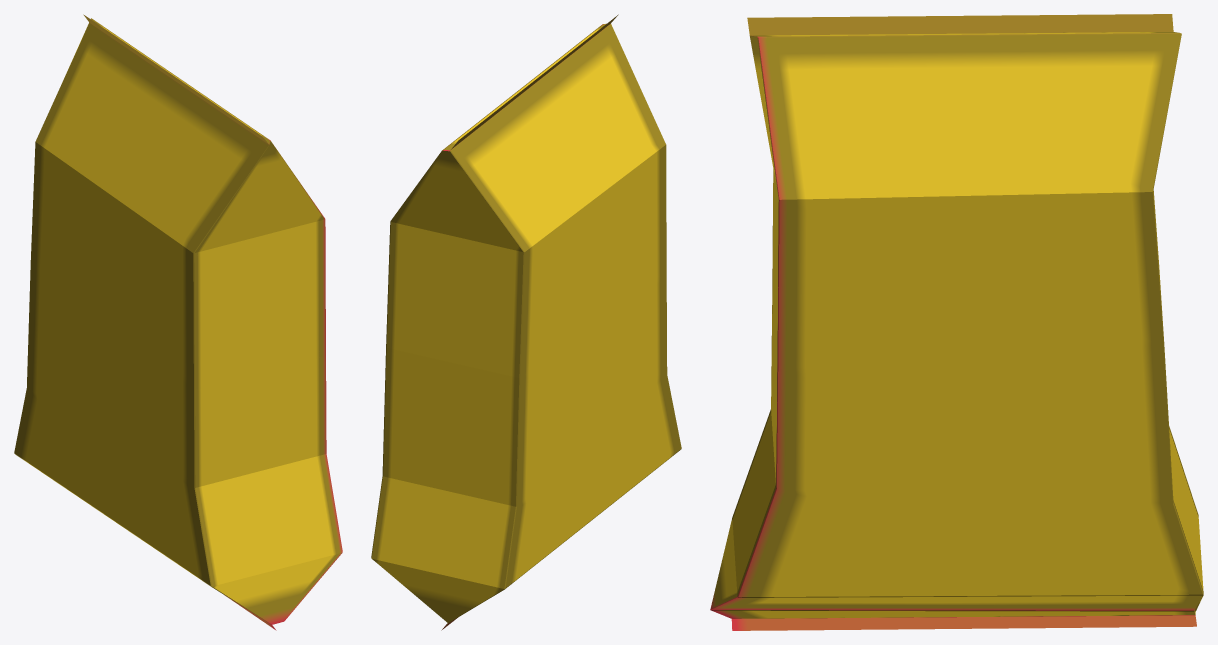
File: Chips.fbx
The picture shows the model from 3 angles, left to right: view 1: azimuth 30°, elevation 25°; view 2: azimuth 150°, elevation 25°; view 3: azimuth 270°, elevation 25°; orthographic projection. The views are drawn at different scales.
Parts seen in each view (by area): view 1: Chips; view 2: Chips; view 3: Chips.
Boxes of the visible parts, bbox=[...] form: Chips: bbox=[14, 14, 342, 630]; Chips: bbox=[371, 14, 681, 630]; Chips: bbox=[710, 14, 1203, 630].
Size of the model in its own units: 48.81 by 161 by 118.
Materials: 1 (1 with a texture image).
